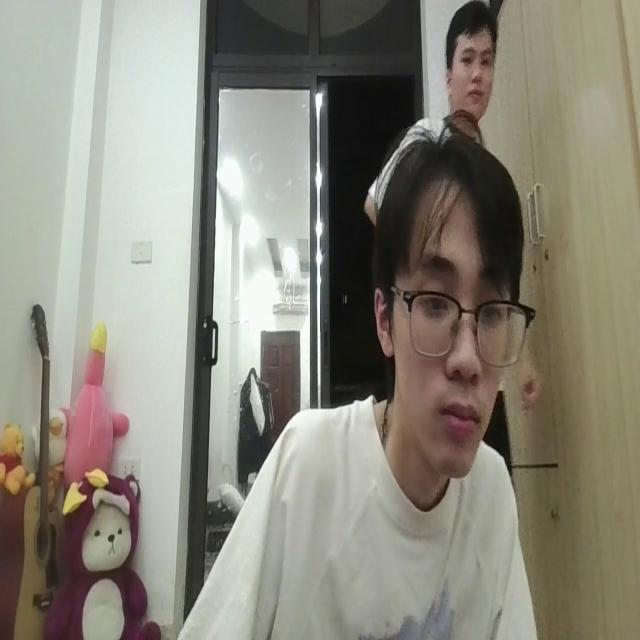student: (183, 115, 533, 640)
